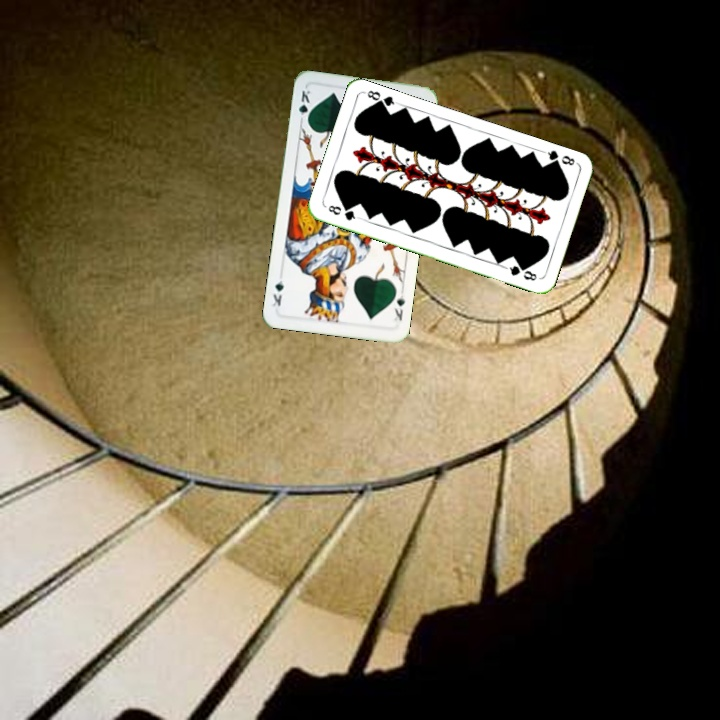G8: (540, 146, 579, 169), (324, 201, 362, 223)
GK: (294, 86, 313, 126), (390, 287, 407, 324)
